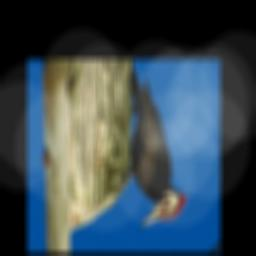Woodpecker: (118, 62, 191, 227)
